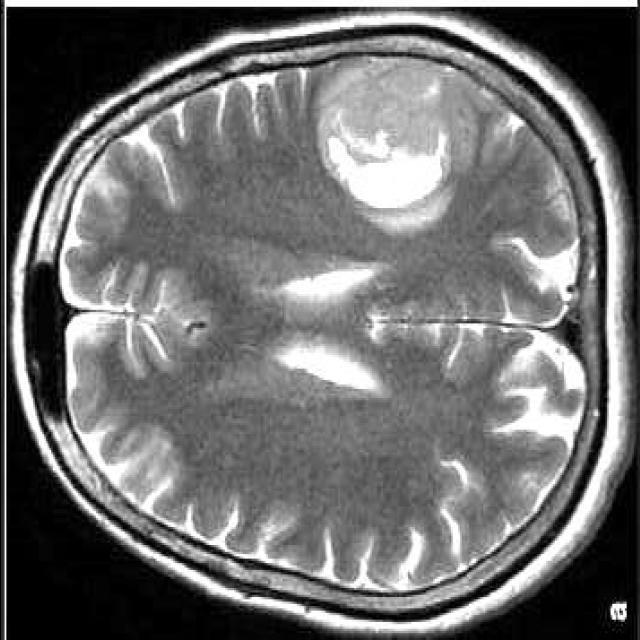tumor: (310, 59, 466, 231)
